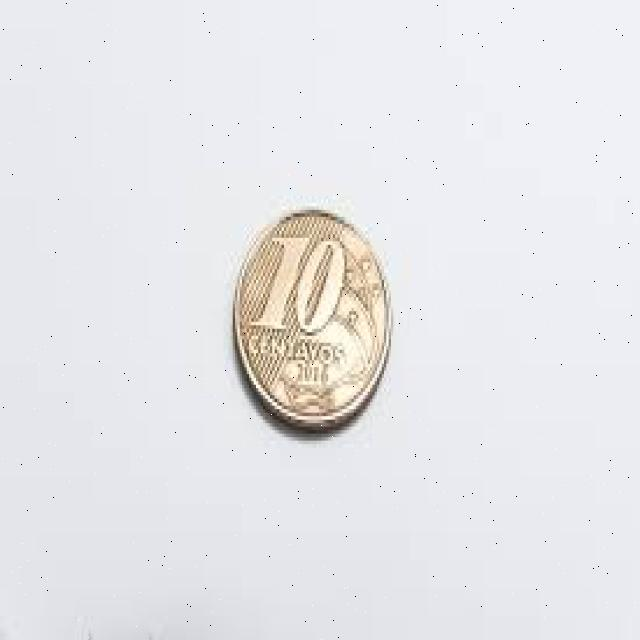10 cent: (232, 206, 390, 430)
